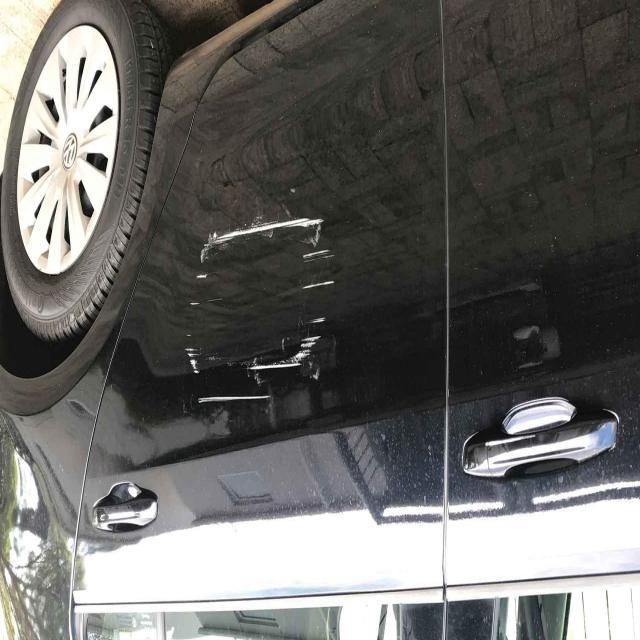scratch: (244, 310, 338, 379), (194, 210, 336, 254), (180, 263, 217, 327), (192, 388, 278, 411), (298, 272, 348, 302)
